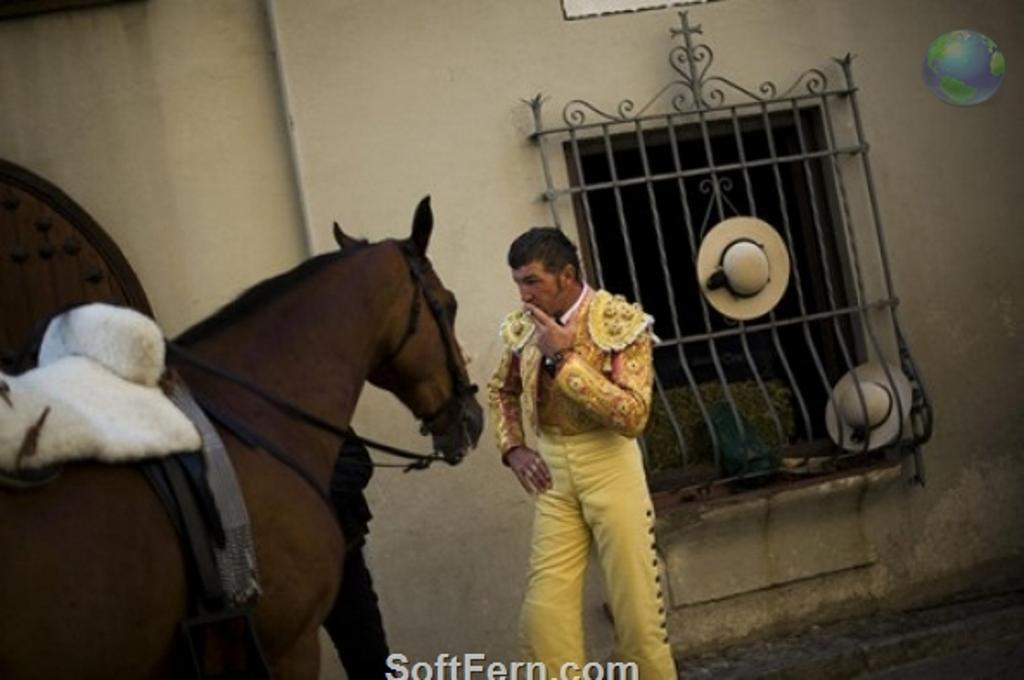face: (513, 264, 568, 316)
